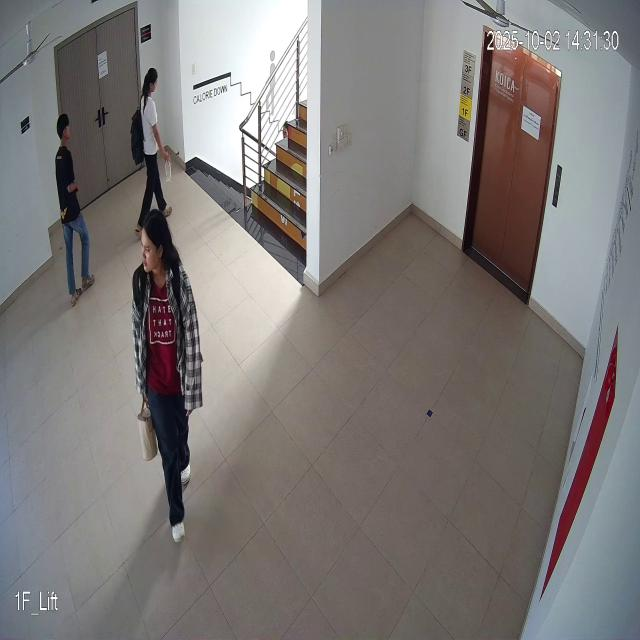face: (137, 208, 174, 274)
